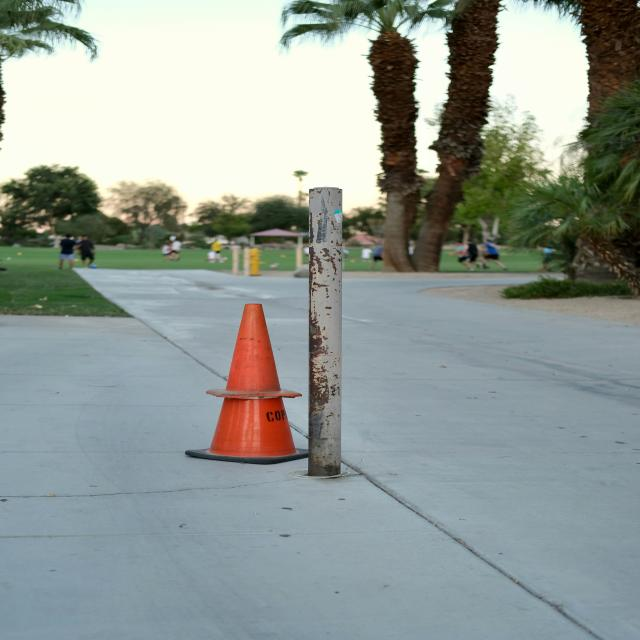Traffic Cone: (175, 287, 307, 469)
